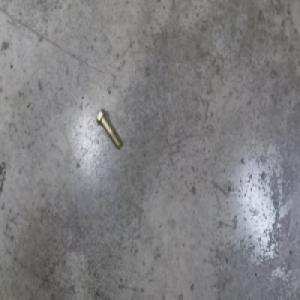Bolt: (96, 108, 121, 151)
